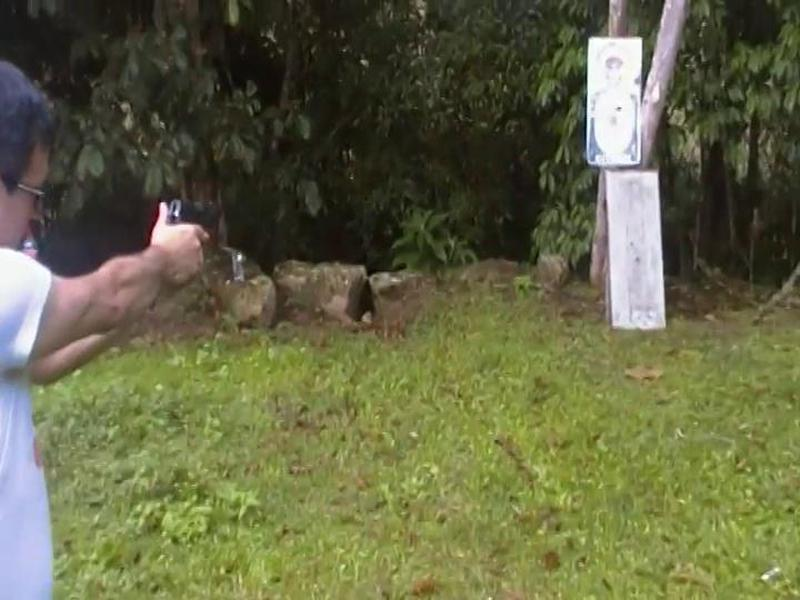Pistola: (152, 170, 240, 267)
